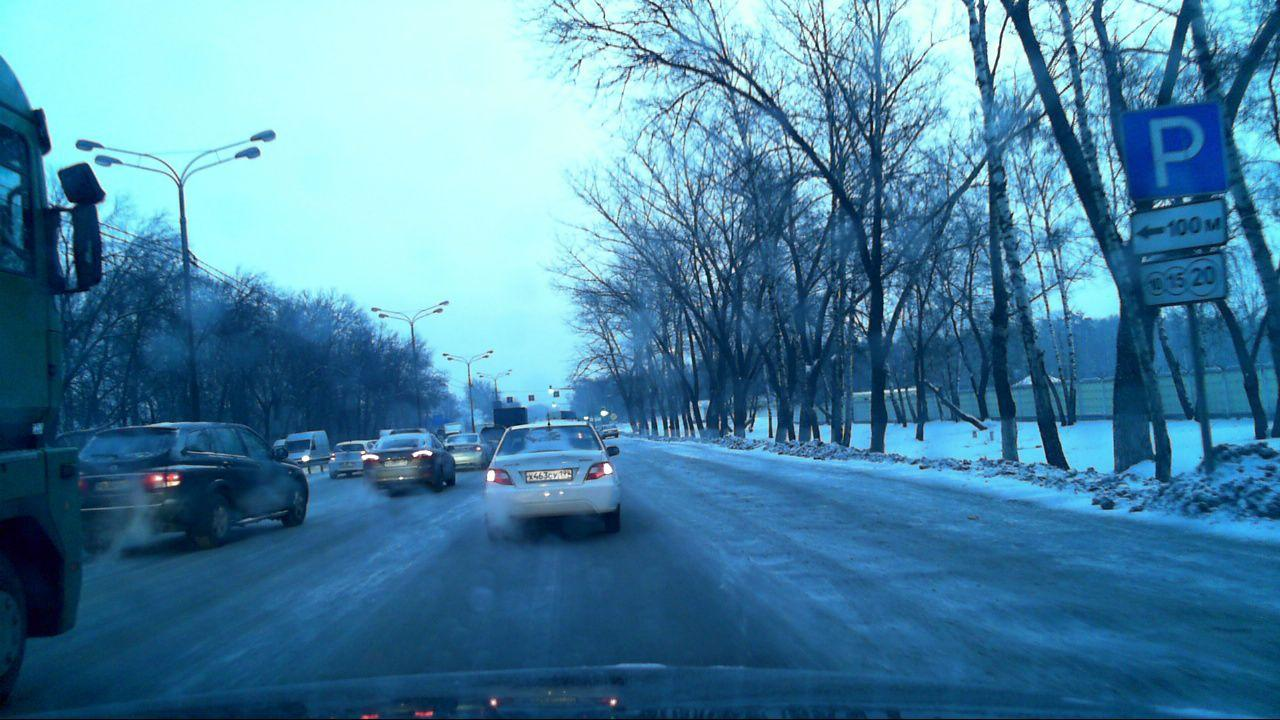6_4: (1117, 100, 1230, 201)
8_1_4: (1129, 201, 1228, 254)
8_8: (1140, 251, 1228, 309)
